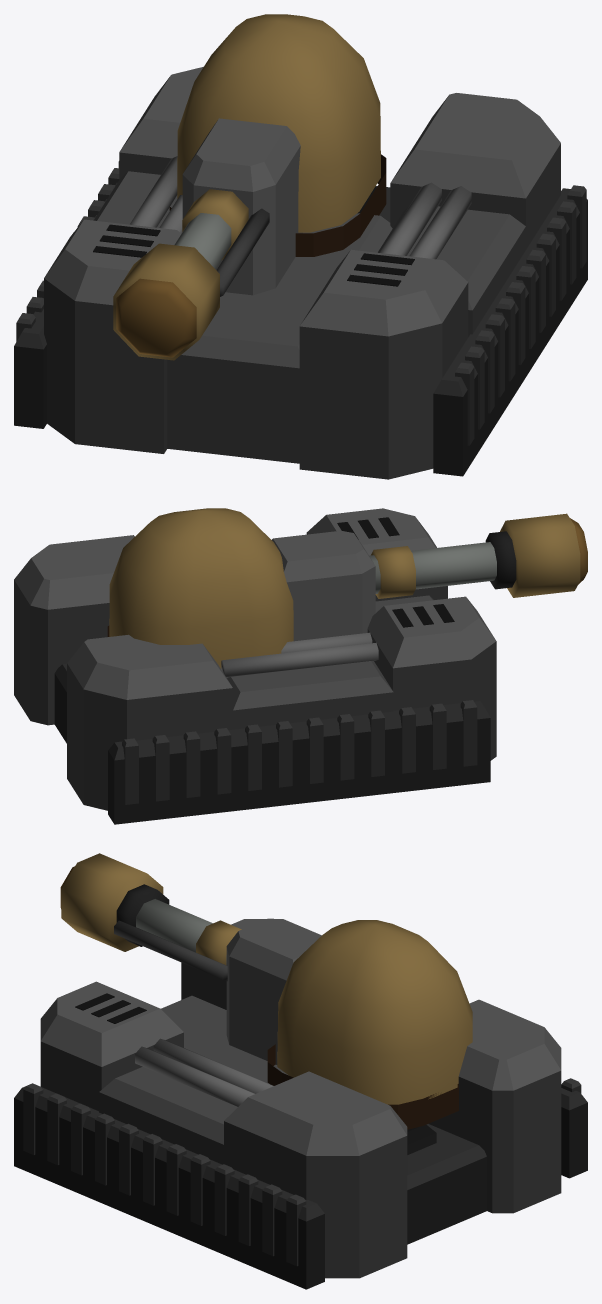
Rendered from newshp-13-f6.glb.
3 views of the same model, one above another, from view 1: azimuth 30°, elevation 25°; view 2: azimuth 150°, elevation 25°; view 3: azimuth 270°, elevation 25° (orthographic). The views are drawn at different scales.
Visible parts, largest first — view 1: newshp-13-f6; view 2: newshp-13-f6; view 3: newshp-13-f6.
Boxes of the visible parts, <box> form: newshp-13-f6: <box>14,14,587,479</box>; newshp-13-f6: <box>14,508,587,824</box>; newshp-13-f6: <box>14,853,587,1289</box>.
Size of the model in its own units: 1.29 by 0.6167 by 1.27.
